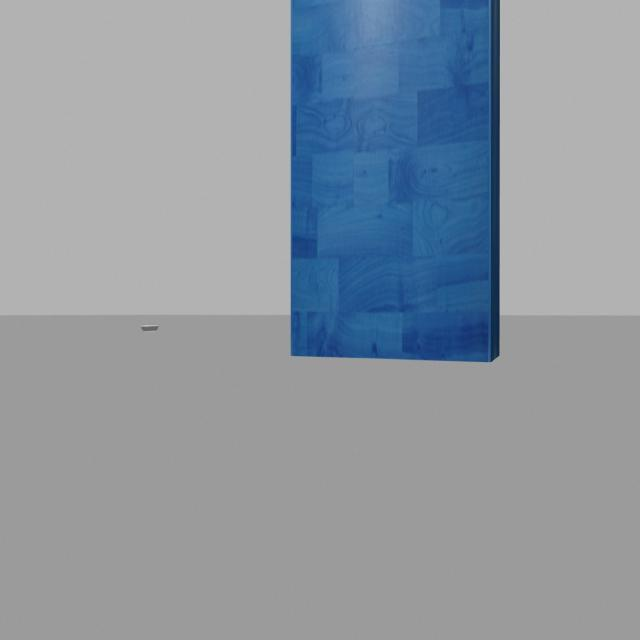bowl: (139, 317, 163, 337)
shelf: (280, 0, 513, 380)
